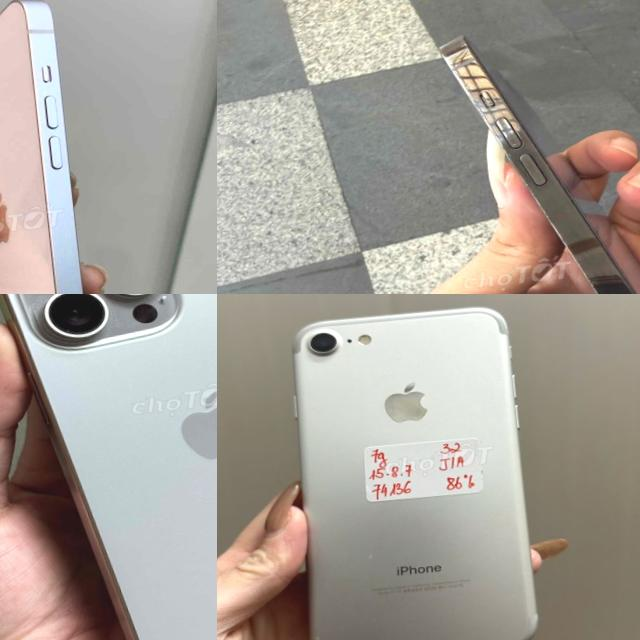scratch: (362, 545, 380, 563)
